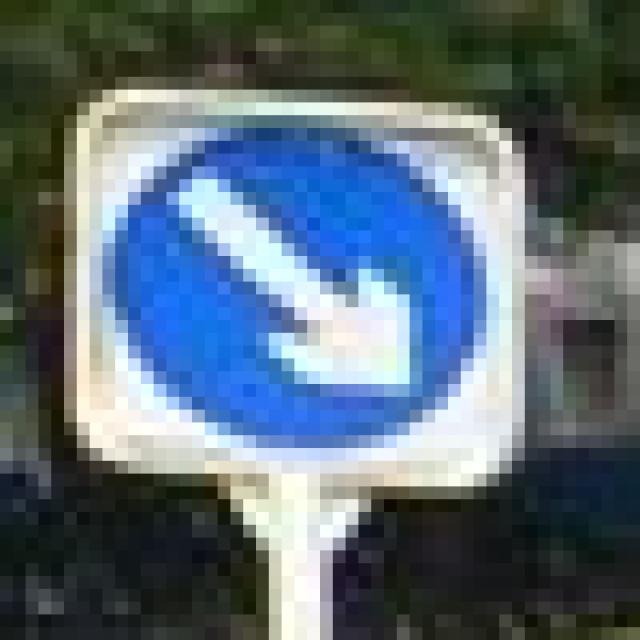compulsory_keep_left: (64, 90, 512, 460)
